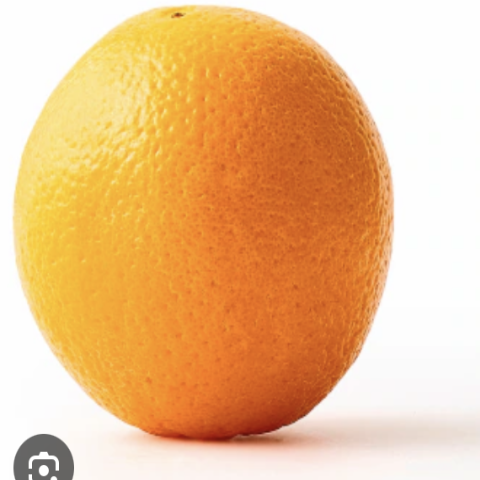orange: (0, 1, 433, 479)
